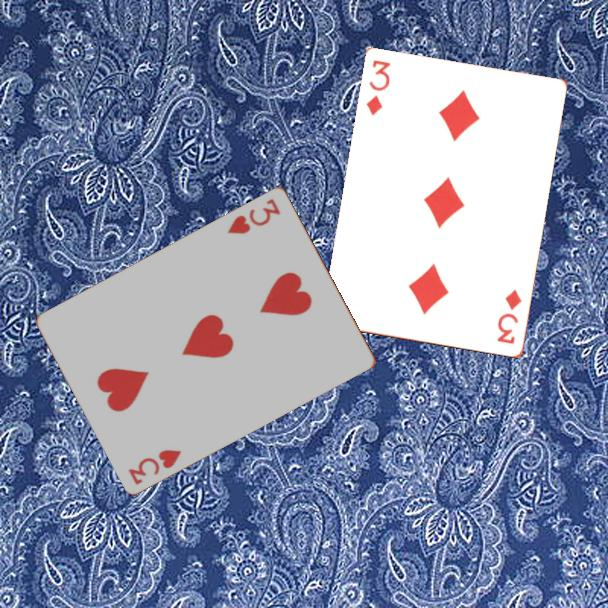d03: (494, 286, 525, 347), (363, 57, 393, 119)
h03: (125, 445, 185, 488), (224, 195, 283, 237)
